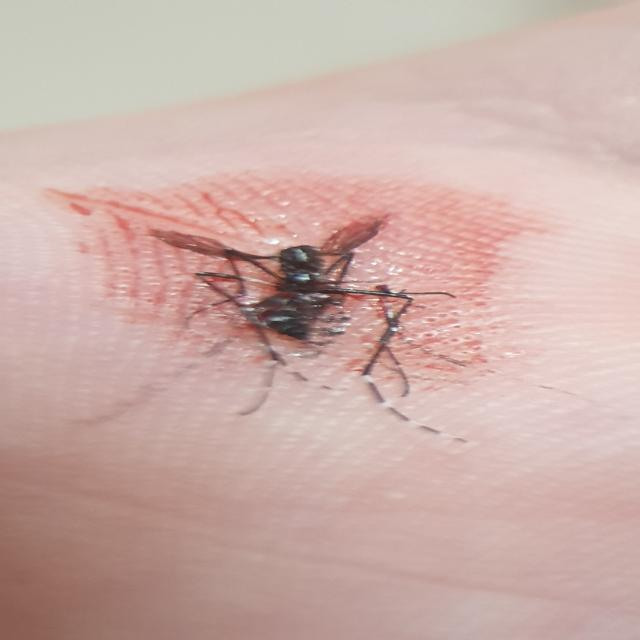albopictus: (128, 195, 499, 444)
